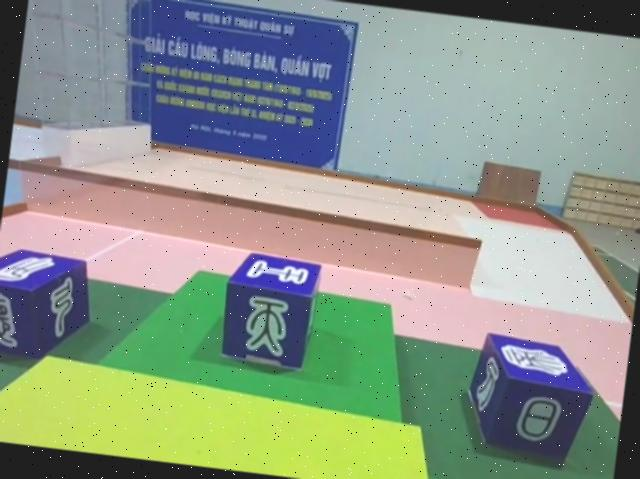R2 Fake Blue: (458, 334, 597, 471), (215, 250, 324, 375), (0, 245, 98, 367)
